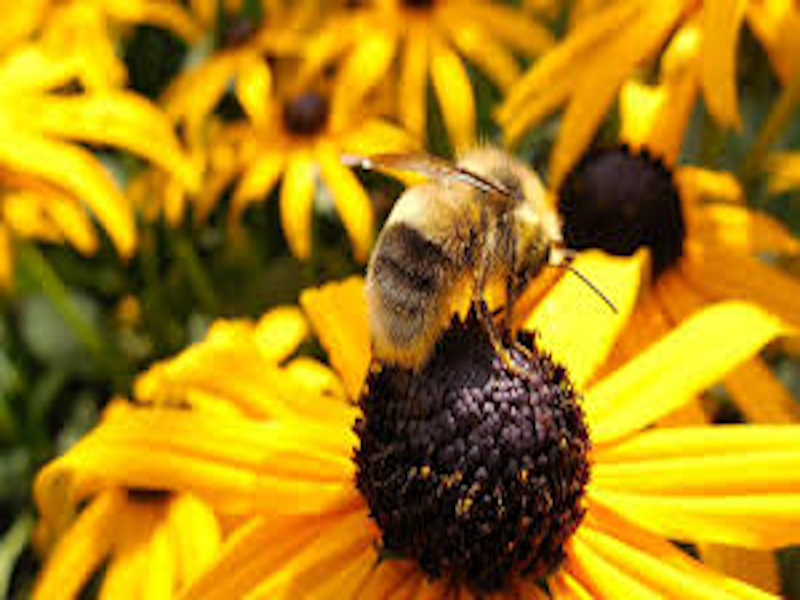abeja: (340, 114, 640, 389)
